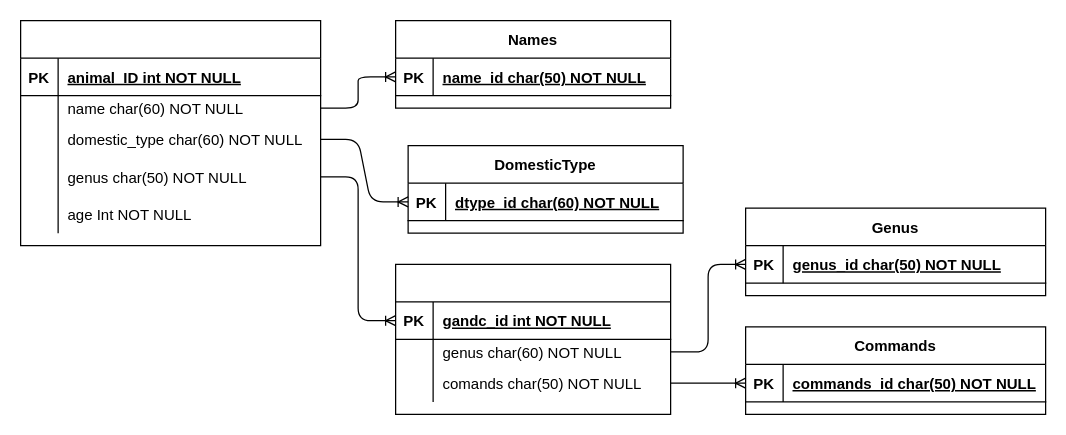
Some shapes in this 1066 by 435 pixel diagram are drawn without their labels. Here are the shapes that lost their labels. From the top down, the box of each, then its label:
(19, 19, 321, 246): Animals
(394, 263, 671, 414): GenusAndCommand
